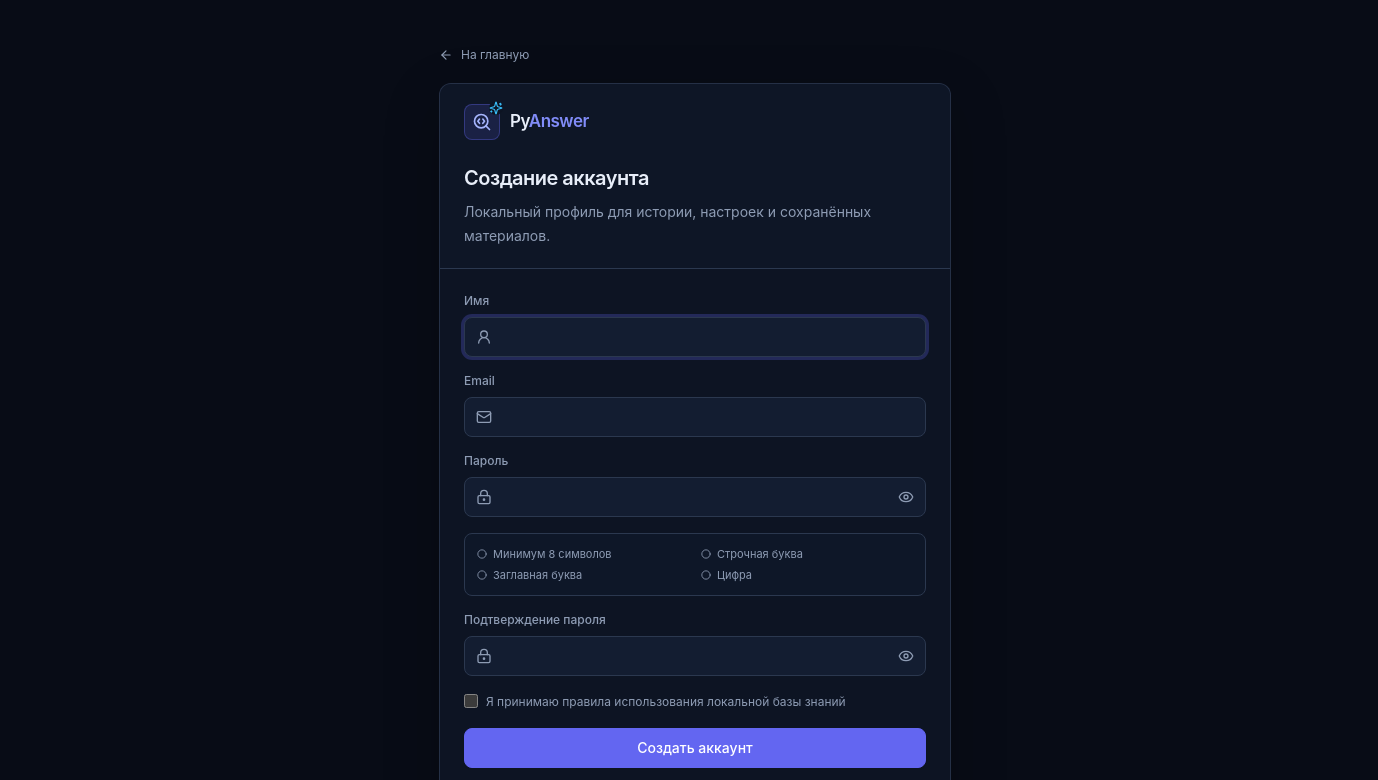
Test: RegisterPage › автоматически авторизует нового пользователя с ролью USER
Type "Новый Пользователь" into the field labelled "Имя" at {"x": 695, "y": 337}, box [464,317,926,357]
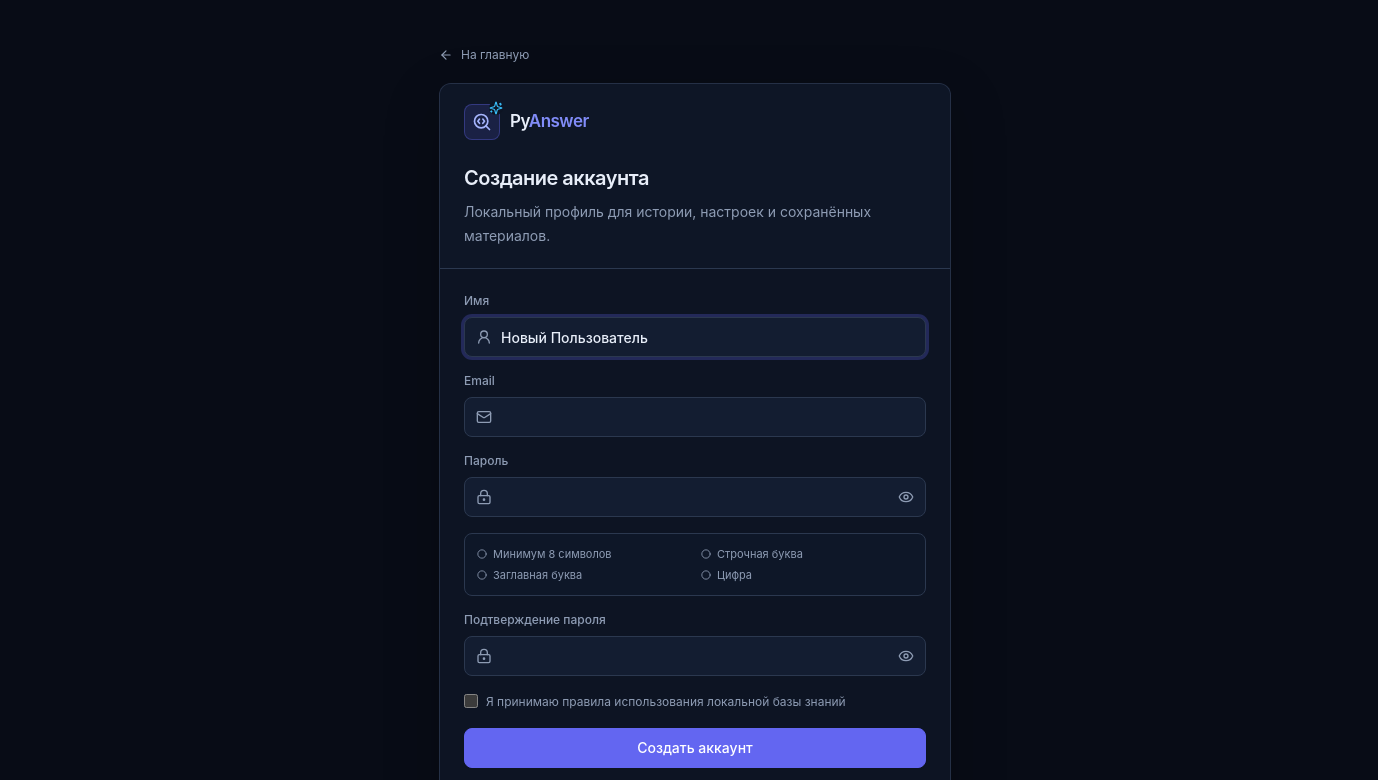
Type "registered@example.local" into the field labelled "Email" at {"x": 695, "y": 417}, box [464,397,926,437]
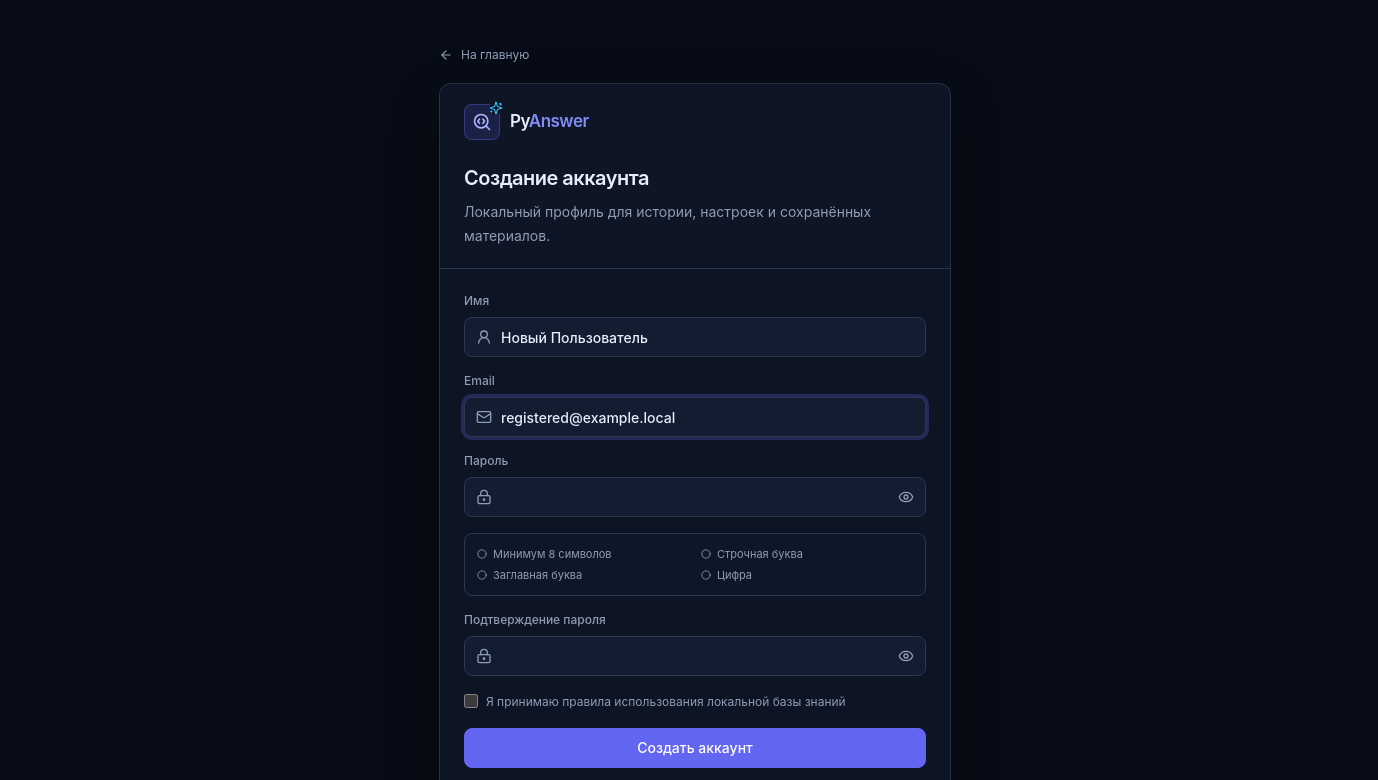
Type "Strong123" into the password field labelled "Пароль" at {"x": 695, "y": 497}, box [464,477,926,517]
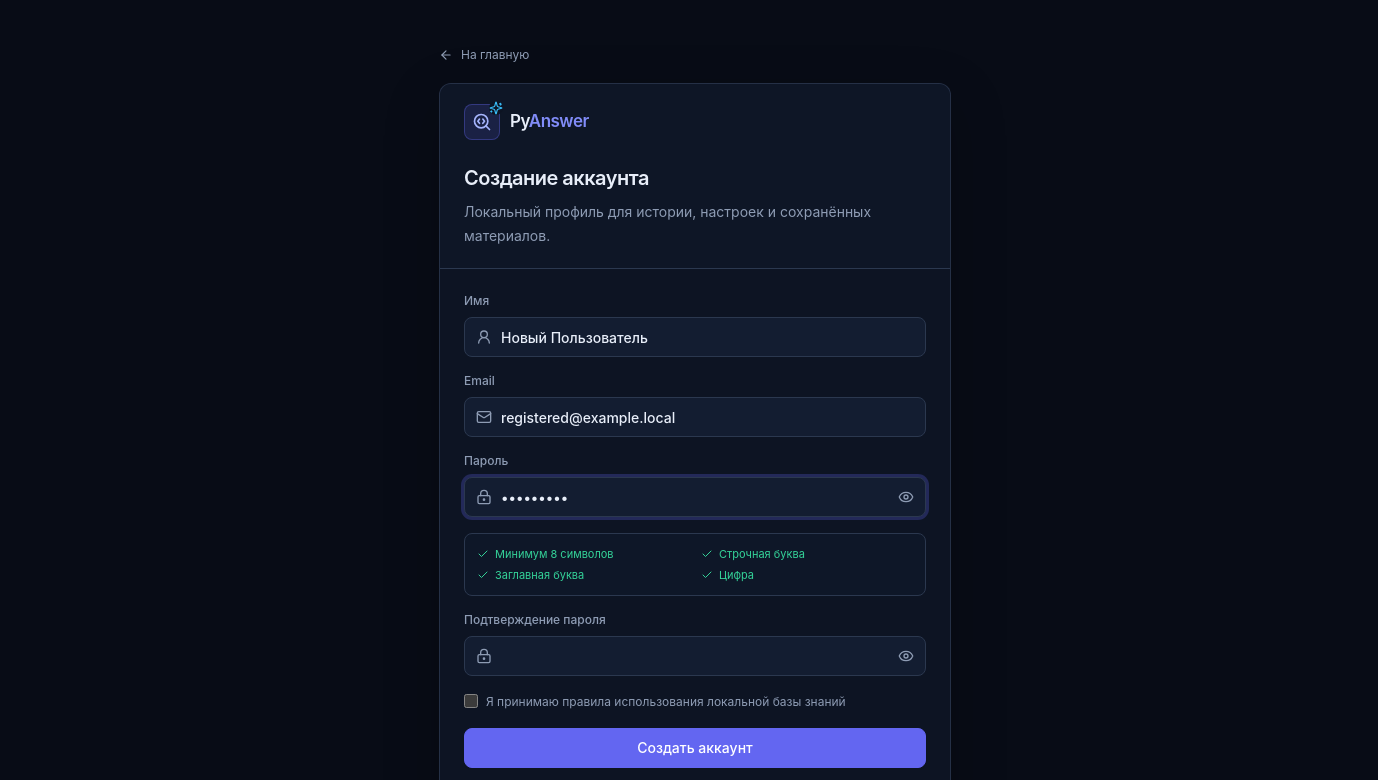
Type "Strong123" into the password field labelled "Подтверждение пароля" at {"x": 695, "y": 656}, box [464,636,926,676]
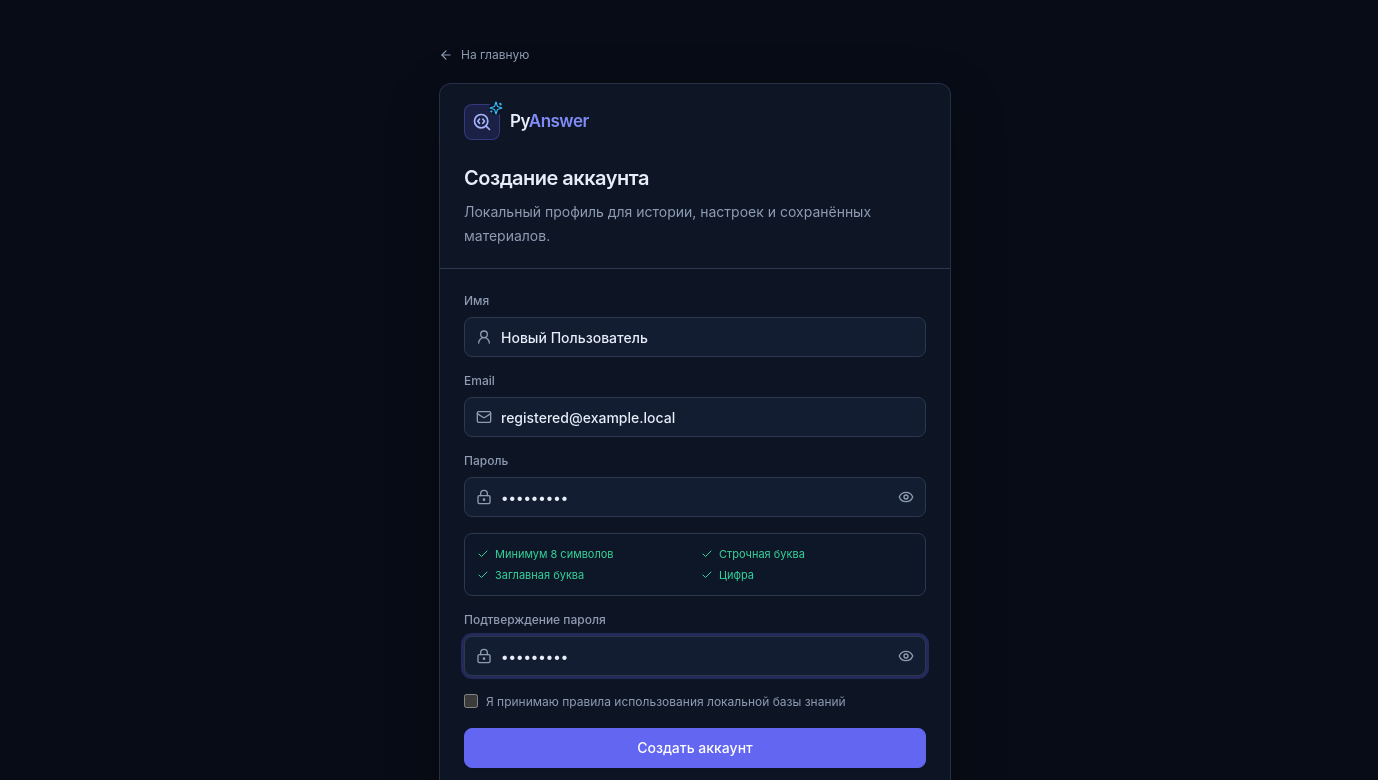
Click the checkbox labelled "Я принимаю правила использования локальной базы знаний" at {"x": 471, "y": 701}, box [464,694,478,708]
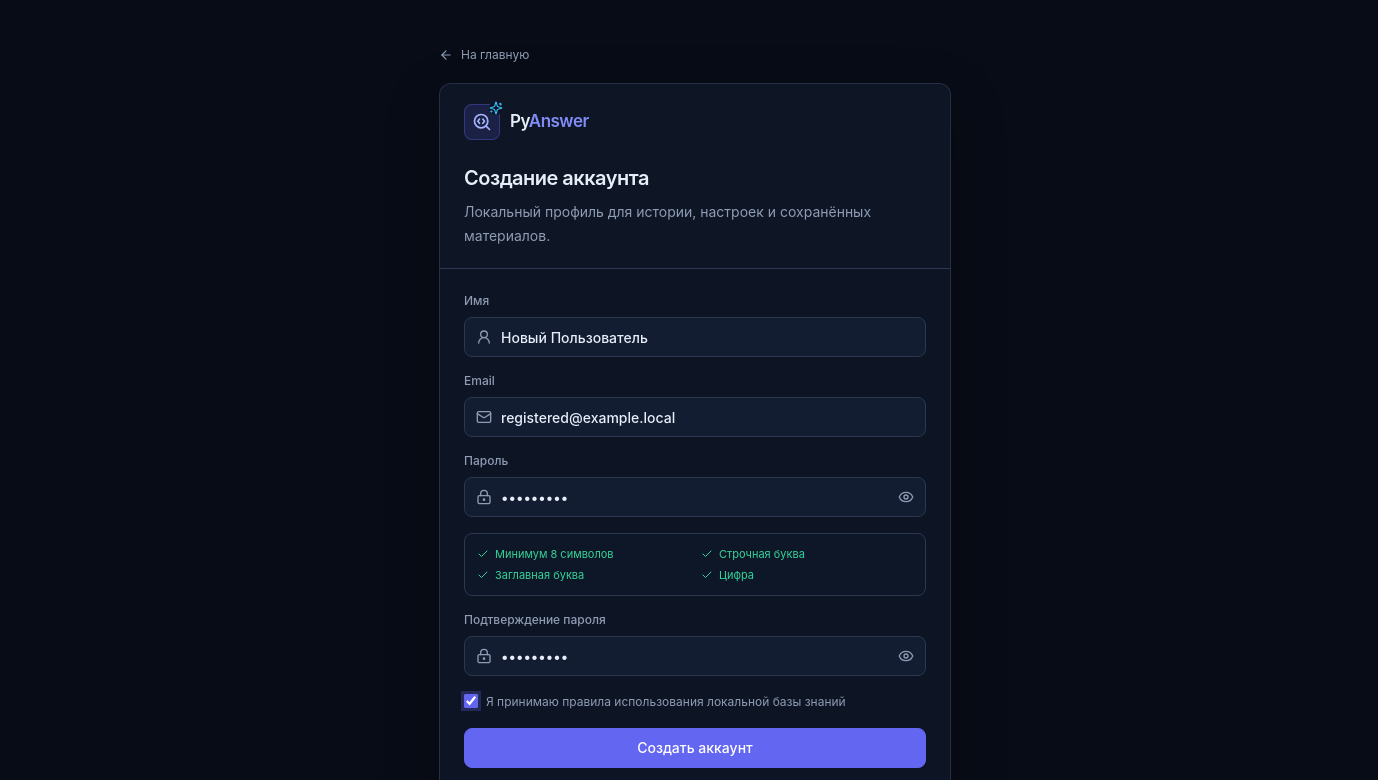
Click the button "Создать аккаунт" at {"x": 695, "y": 748}, box [464,728,926,768]
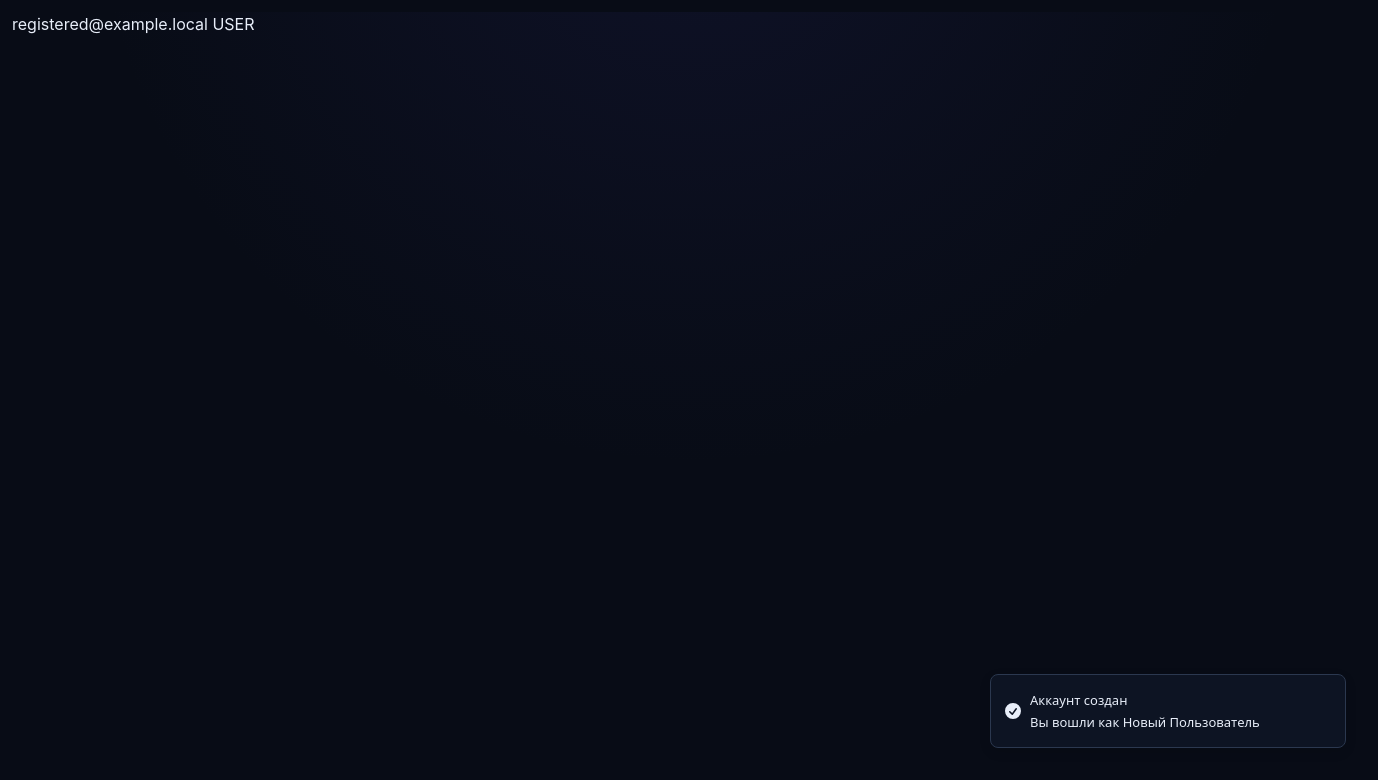
Now the text "registered@example.local USER" is shown, box [12,14,254,34]
